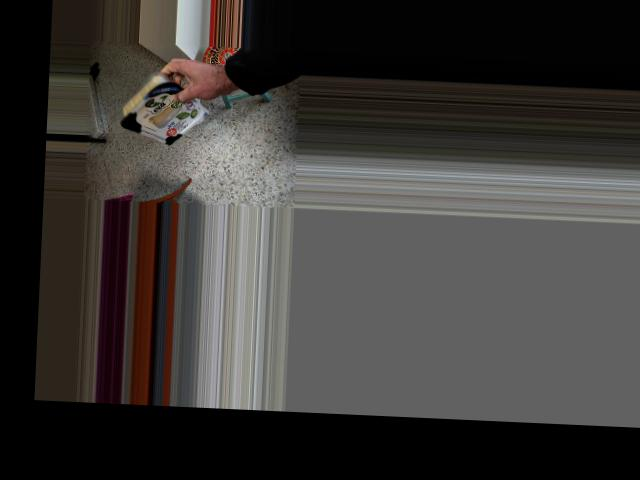cheese: (119, 48, 202, 156)
